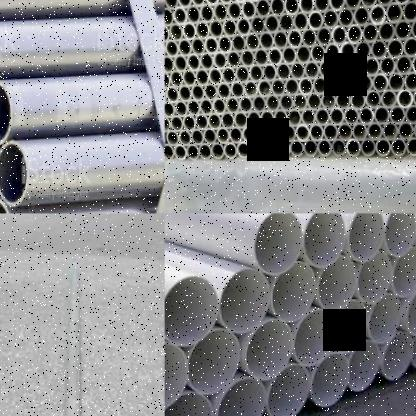pipe: (164, 275, 218, 347), (187, 328, 240, 394), (218, 269, 270, 333), (254, 214, 303, 275), (246, 319, 292, 381), (272, 263, 315, 322), (293, 309, 334, 366), (266, 364, 310, 416), (318, 256, 356, 313), (304, 214, 344, 268), (311, 352, 349, 406), (216, 377, 266, 416), (332, 300, 368, 353), (0, 141, 28, 207), (357, 252, 392, 304), (164, 342, 188, 413), (368, 293, 401, 344), (349, 214, 384, 262), (349, 340, 380, 392), (382, 332, 414, 380), (384, 213, 416, 256), (164, 390, 214, 416), (393, 247, 416, 298), (0, 79, 12, 145), (405, 288, 416, 336), (394, 18, 412, 42), (369, 3, 387, 26), (386, 1, 403, 24), (353, 5, 371, 26), (378, 21, 396, 42), (370, 39, 388, 60), (395, 54, 413, 75), (362, 22, 379, 44), (387, 37, 404, 59), (388, 71, 405, 93), (396, 121, 414, 141), (355, 40, 372, 61), (389, 105, 406, 126), (264, 13, 280, 35), (372, 72, 388, 94), (396, 89, 414, 108), (381, 122, 399, 141), (330, 138, 347, 158), (338, 7, 354, 28), (316, 26, 332, 47), (302, 27, 318, 48), (340, 41, 356, 62), (380, 55, 396, 76), (364, 56, 380, 77), (284, 76, 300, 97), (381, 88, 397, 109), (375, 137, 391, 158), (390, 137, 406, 158), (316, 137, 332, 158), (293, 10, 308, 32), (332, 24, 347, 46), (358, 106, 375, 125), (402, 0, 416, 23), (308, 10, 324, 30), (250, 15, 266, 35), (347, 24, 363, 44), (324, 42, 340, 62), (348, 57, 364, 77), (333, 58, 349, 78), (304, 60, 320, 80), (290, 61, 306, 81), (342, 74, 358, 94), (298, 76, 314, 96), (366, 89, 382, 109), (350, 90, 366, 110), (374, 105, 390, 125), (360, 138, 376, 158), (262, 138, 278, 158), (346, 138, 362, 158), (236, 16, 251, 37), (223, 17, 238, 38), (273, 29, 288, 50), (259, 30, 274, 51), (245, 31, 260, 52), (313, 75, 328, 96), (200, 2, 214, 24), (324, 8, 338, 30), (306, 92, 322, 111), (279, 12, 294, 32), (311, 43, 326, 63), (296, 44, 311, 64), (254, 47, 269, 67), (240, 48, 255, 68), (213, 50, 228, 70), (319, 59, 334, 79), (235, 64, 250, 84), (336, 91, 351, 111), (344, 107, 359, 127), (352, 122, 367, 142), (186, 4, 200, 25), (209, 18, 223, 39), (169, 22, 183, 43), (288, 28, 302, 49), (268, 46, 282, 67), (277, 61, 291, 82), (358, 73, 372, 94), (328, 74, 342, 95), (338, 121, 352, 142), (218, 35, 233, 54), (221, 66, 236, 85), (315, 107, 330, 126), (290, 139, 305, 158), (223, 141, 238, 160), (242, 0, 256, 20), (228, 1, 242, 21), (214, 2, 228, 22), (196, 20, 210, 40), (182, 21, 196, 41), (232, 33, 246, 53), (191, 36, 205, 56), (178, 37, 192, 57), (282, 45, 296, 65), (227, 49, 241, 69), (200, 51, 214, 71), (249, 63, 263, 83), (170, 69, 184, 89), (272, 77, 286, 97), (322, 91, 336, 111), (294, 92, 308, 112), (226, 95, 240, 115), (274, 108, 288, 128), (247, 109, 261, 129), (368, 121, 382, 141), (255, 124, 269, 144), (304, 138, 318, 158), (276, 139, 290, 159), (236, 140, 250, 160), (174, 5, 187, 26), (403, 36, 416, 57), (254, 0, 270, 17), (204, 36, 218, 55), (187, 53, 201, 72), (174, 54, 188, 73), (263, 63, 277, 82), (258, 79, 272, 98), (204, 83, 218, 102), (178, 84, 192, 103), (280, 93, 294, 112), (239, 95, 253, 114), (200, 97, 214, 116), (330, 107, 344, 126), (302, 108, 316, 127), (288, 108, 302, 127), (234, 110, 248, 129), (208, 112, 222, 131), (170, 114, 184, 133), (324, 122, 338, 141), (310, 123, 324, 142), (295, 123, 309, 142), (216, 126, 230, 145), (250, 140, 264, 159), (404, 70, 416, 92), (196, 67, 209, 87), (183, 68, 196, 88), (265, 95, 280, 112), (231, 81, 245, 99), (174, 100, 188, 118), (282, 124, 296, 142), (268, 124, 282, 142), (242, 126, 256, 144), (166, 129, 180, 147), (199, 142, 213, 160), (210, 143, 224, 161), (186, 143, 200, 161), (174, 143, 188, 161), (209, 67, 222, 86), (253, 94, 266, 113), (261, 109, 274, 128), (183, 113, 196, 132), (405, 104, 416, 126), (270, 0, 285, 16), (166, 38, 178, 58), (218, 80, 230, 100), (230, 125, 242, 145), (245, 80, 258, 98), (213, 97, 226, 115), (222, 111, 235, 129), (196, 113, 209, 131), (191, 128, 204, 146), (405, 135, 416, 156), (192, 83, 204, 102), (284, 0, 299, 15), (299, 0, 315, 14), (167, 85, 179, 103), (188, 99, 200, 117), (204, 127, 216, 145), (314, 0, 330, 13), (178, 130, 191, 146), (164, 54, 174, 74), (164, 144, 174, 162), (344, 0, 361, 10), (164, 101, 174, 118), (165, 7, 173, 27), (330, 0, 344, 11), (361, 0, 377, 9), (164, 0, 178, 10), (178, 0, 192, 9), (410, 17, 416, 38), (190, 0, 204, 8), (411, 53, 416, 74), (165, 69, 170, 89), (165, 114, 170, 133), (393, 0, 410, 5), (377, 0, 393, 5), (165, 24, 169, 43), (218, 0, 233, 4), (203, 0, 218, 4), (233, 0, 248, 3), (247, 0, 262, 2)
